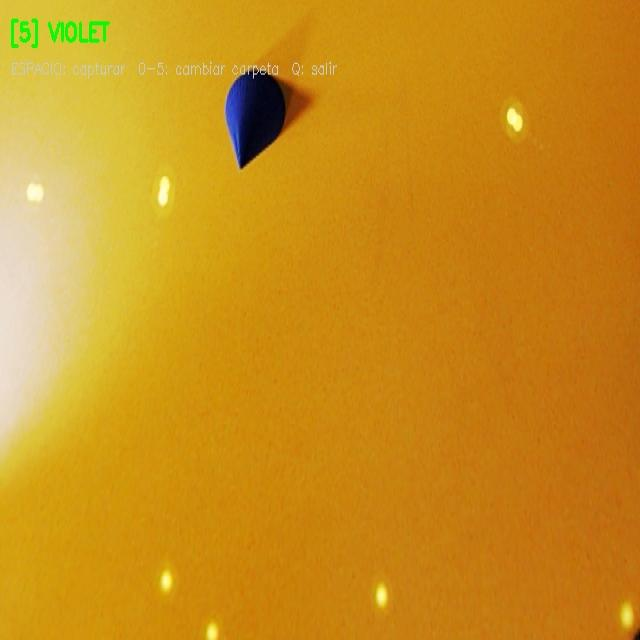violet: (225, 75, 283, 167)
